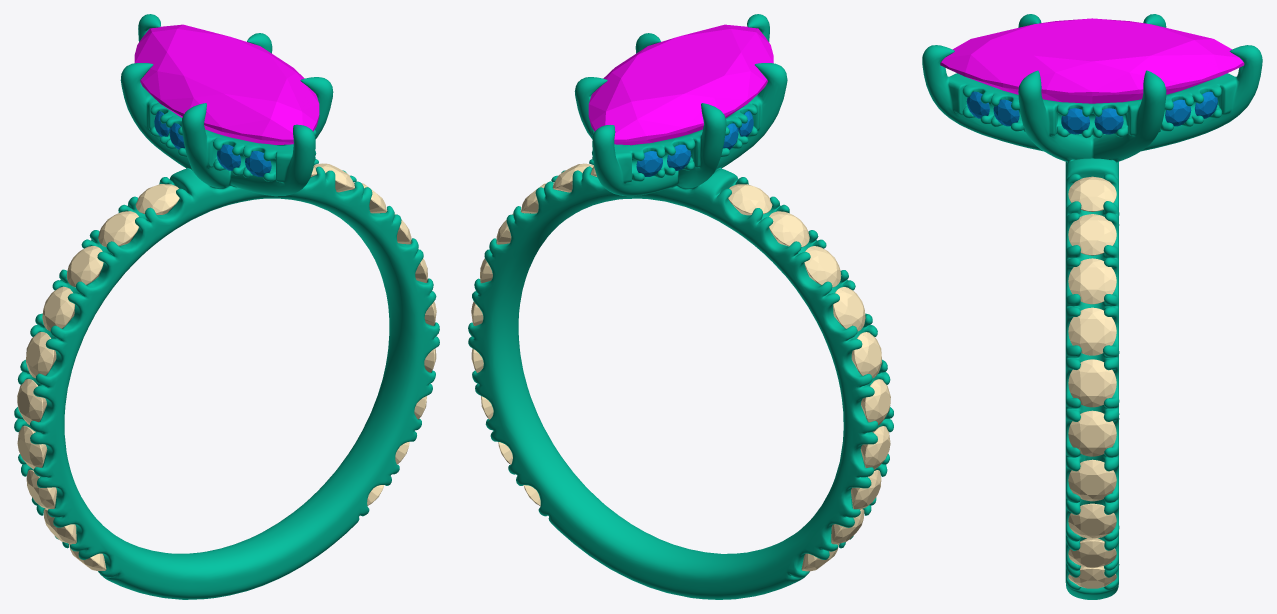
The model's file is BE1D1797_MQ_200ct_RENDER.glb.
3 views of the same model, side by side, from view 1: azimuth 30°, elevation 25°; view 2: azimuth 150°, elevation 25°; view 3: azimuth 270°, elevation 25° (orthographic). The views are drawn at different scales.
Parts seen in each view (by area): view 1: Metal 01, CS_Diamond_Marquise, Diamond_Round_Gem_SH.002, Diamond_Round_Gem_SH.001, Diamond_Round_Gem_SH.003, Diamond_Round_Gem_SH.004, Diamond_Round_Gem_SH, Diamond_Round_Gem_SH.005, Diamond_Round_Gem_SH.006, Diamond_Round_Gem_SH.007; view 2: Metal 01, CS_Diamond_Marquise, Diamond_Round_Gem_SH.002, Diamond_Round_Gem_SH.001, Diamond_Round_Gem_SH.003, Diamond_Round_Gem_SH.004, Diamond_Round_Gem_SH, Diamond_Round_Gem_SH.005, Diamond_Round_Gem_SH.006, Diamond_Round_Gem_SH.007; view 3: Metal 01, CS_Diamond_Marquise, Diamond_Round_Gem_SH.015, Diamond_Round_Gem_SH.016, Diamond_Round_Gem_SH.017, Diamond_Round_Gem_SH.014, Diamond_Round_Gem_SH.018, Diamond_Round_Gem_SH.013, Diamond_Round_Gem_SH.019, Diamond_Round_Gem_SH.012, Diamond_Round_Gem_SH.011, Diamond_Round_Gem_SH.010 (+4 smaller).
Boxes of the visible parts, x1,y1,x2,y2 form: Metal 01: (14, 14, 439, 599); CS_Diamond_Marquise: (134, 24, 319, 145); Diamond_Round_Gem_SH.002: (67, 246, 103, 287); Diamond_Round_Gem_SH.001: (98, 211, 138, 247); Diamond_Round_Gem_SH.003: (42, 286, 74, 331); Diamond_Round_Gem_SH.004: (26, 332, 56, 378); Diamond_Round_Gem_SH: (135, 184, 179, 214); Diamond_Round_Gem_SH.005: (17, 379, 46, 424); Diamond_Round_Gem_SH.006: (17, 425, 47, 469); Diamond_Round_Gem_SH.007: (26, 469, 56, 509); Metal 01: (468, 14, 893, 599); CS_Diamond_Marquise: (588, 24, 773, 145); Diamond_Round_Gem_SH.002: (804, 246, 841, 287); Diamond_Round_Gem_SH.001: (769, 211, 809, 247); Diamond_Round_Gem_SH.003: (833, 287, 865, 331); Diamond_Round_Gem_SH.004: (851, 332, 881, 378); Diamond_Round_Gem_SH: (728, 184, 772, 215); Diamond_Round_Gem_SH.005: (861, 379, 890, 424); Diamond_Round_Gem_SH.006: (860, 426, 890, 469); Diamond_Round_Gem_SH.007: (851, 470, 881, 509); Metal 01: (922, 14, 1262, 599); CS_Diamond_Marquise: (940, 18, 1244, 103); Diamond_Round_Gem_SH.015: (1068, 359, 1116, 407); Diamond_Round_Gem_SH.016: (1068, 307, 1116, 355); Diamond_Round_Gem_SH.017: (1068, 258, 1116, 304); Diamond_Round_Gem_SH.014: (1068, 410, 1116, 456); Diamond_Round_Gem_SH.018: (1068, 214, 1116, 255); Diamond_Round_Gem_SH.013: (1068, 459, 1116, 501); Diamond_Round_Gem_SH.019: (1068, 176, 1116, 211); Diamond_Round_Gem_SH.012: (1068, 503, 1116, 538); Diamond_Round_Gem_SH.011: (1068, 538, 1116, 568); Diamond_Round_Gem_SH.010: (1068, 566, 1116, 588).
Size of the model in its own units: 20.03 by 24.62 by 14.13.
